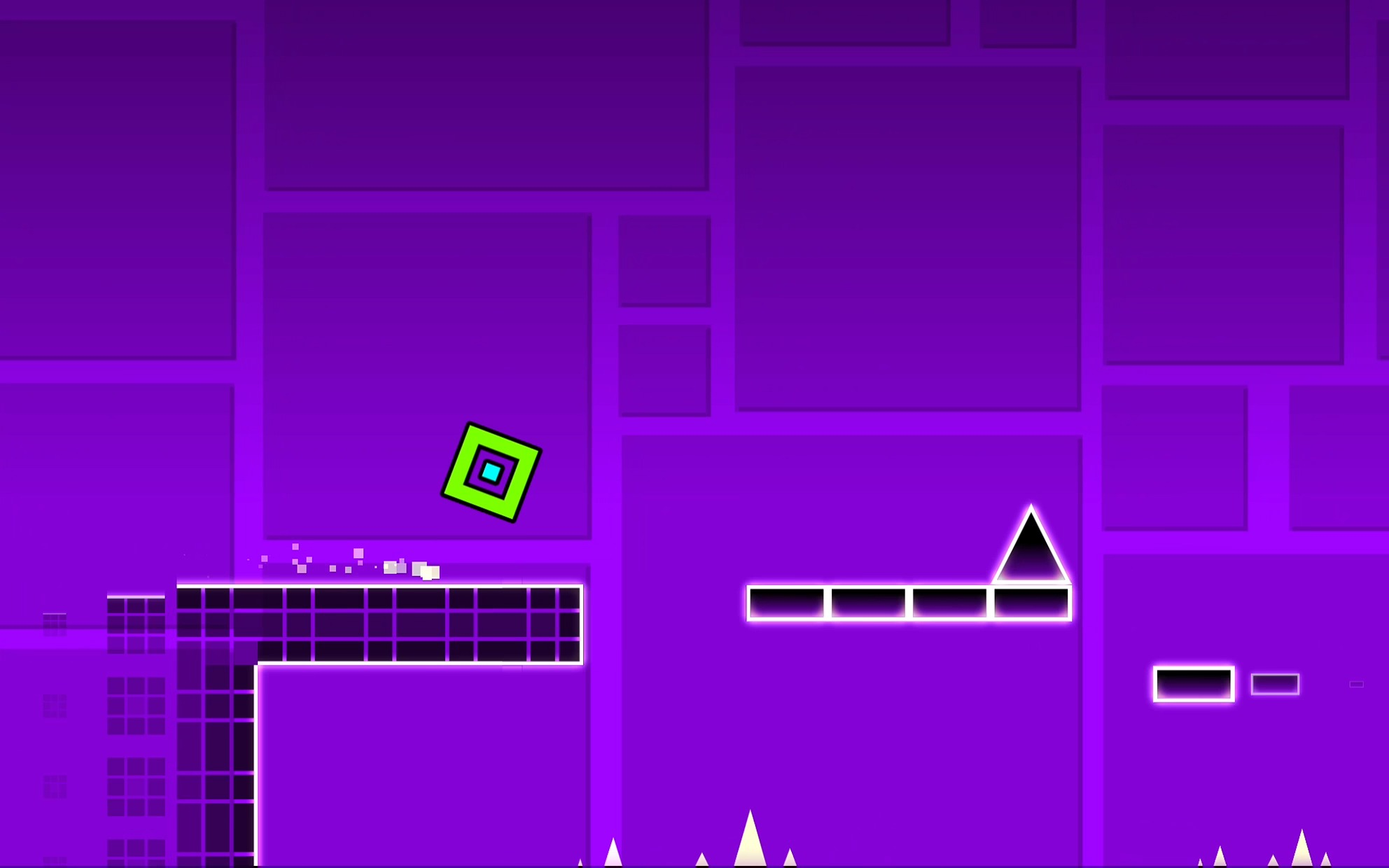Block2: (101, 584, 257, 868), (253, 587, 582, 660)
Block3: (1152, 666, 1232, 702), (747, 585, 828, 620), (828, 586, 908, 618), (912, 588, 991, 619), (992, 585, 1068, 617), (1250, 672, 1301, 694)
Player: (440, 423, 543, 521)
Spike: (991, 505, 1068, 581)
